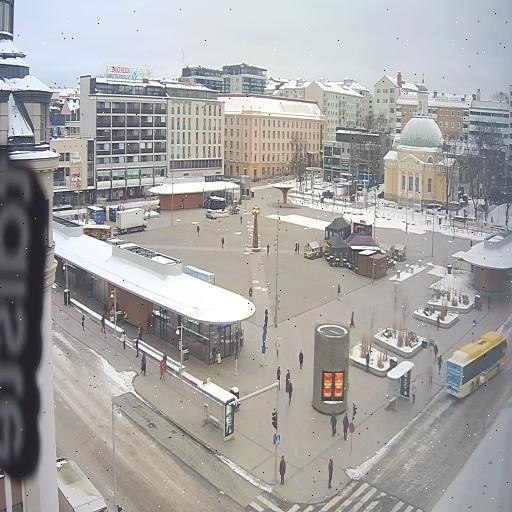bus: (446, 331, 507, 397)
